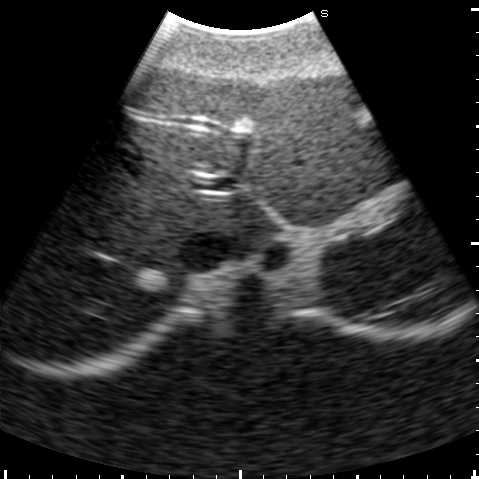IVC: (177, 229, 239, 271)
S1: (218, 194, 282, 248)
S2: (254, 164, 403, 226)
S3: (240, 71, 396, 196)
Tumor: (353, 107, 372, 126)
